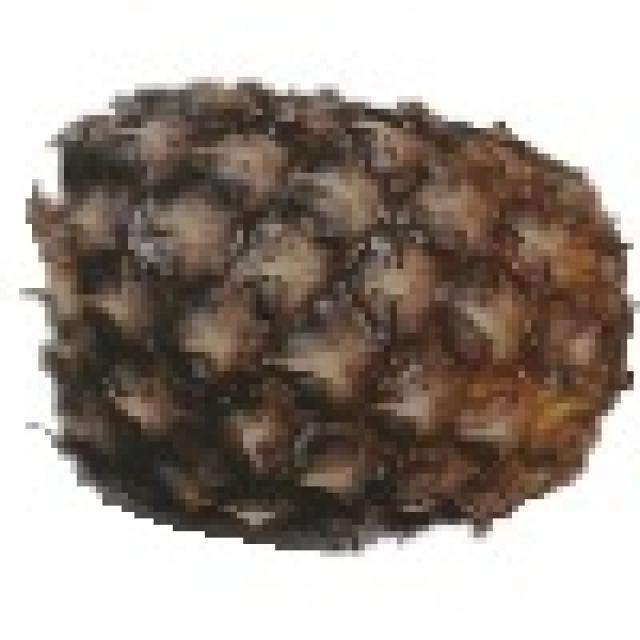pineapple: (38, 77, 634, 531)
